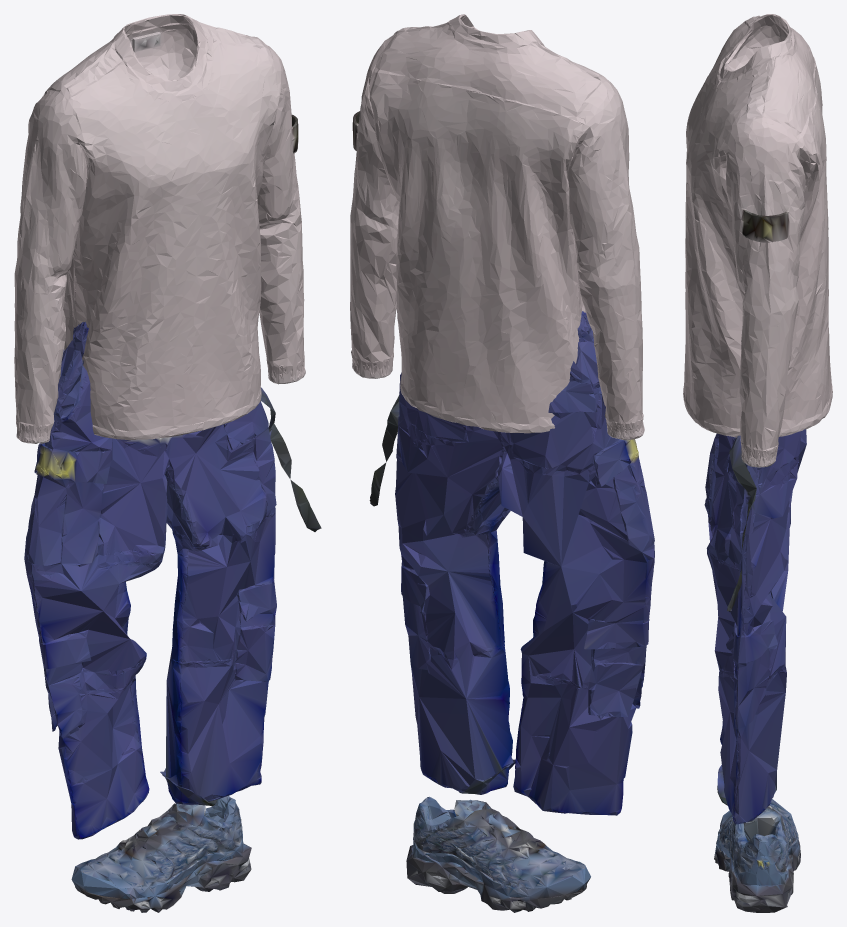
The model's file is outfit-completo.glb.
The picture shows the model from 3 angles, left to right: view 1: azimuth 30°, elevation 25°; view 2: azimuth 150°, elevation 25°; view 3: azimuth 270°, elevation 25°; orthographic projection. The views are drawn at different scales.
Visible parts, largest first — view 1: shirt, pants, sneaker; view 2: shirt, pants, sneaker; view 3: shirt, pants, sneaker.
Part boxes in pixels (x1,y1,x2,y2): shirt: (14, 14, 305, 443); pants: (24, 322, 321, 839); sneaker: (71, 796, 251, 912); shirt: (350, 14, 644, 440); pants: (369, 311, 654, 815); sneaker: (406, 796, 590, 912); shirt: (683, 14, 832, 467); pants: (704, 429, 806, 824); sneaker: (714, 799, 800, 912).
Size of the model in its own units: 58.54 by 168 by 26.9.
